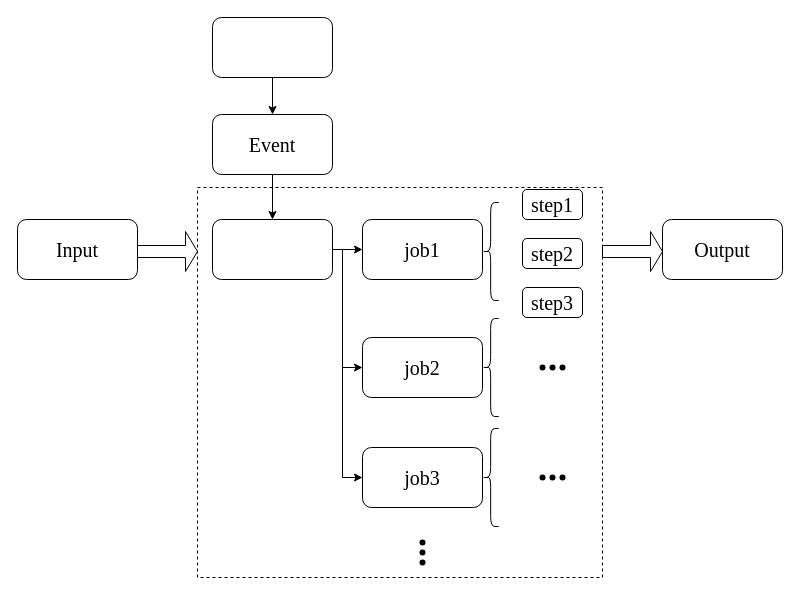
Image size: 800x595. Some labels were removed from this diagram. Here are the shapes that lost their labels. From the top down, the centre of each, then its label:
point (272, 47): Github Action
point (272, 249): workflow
